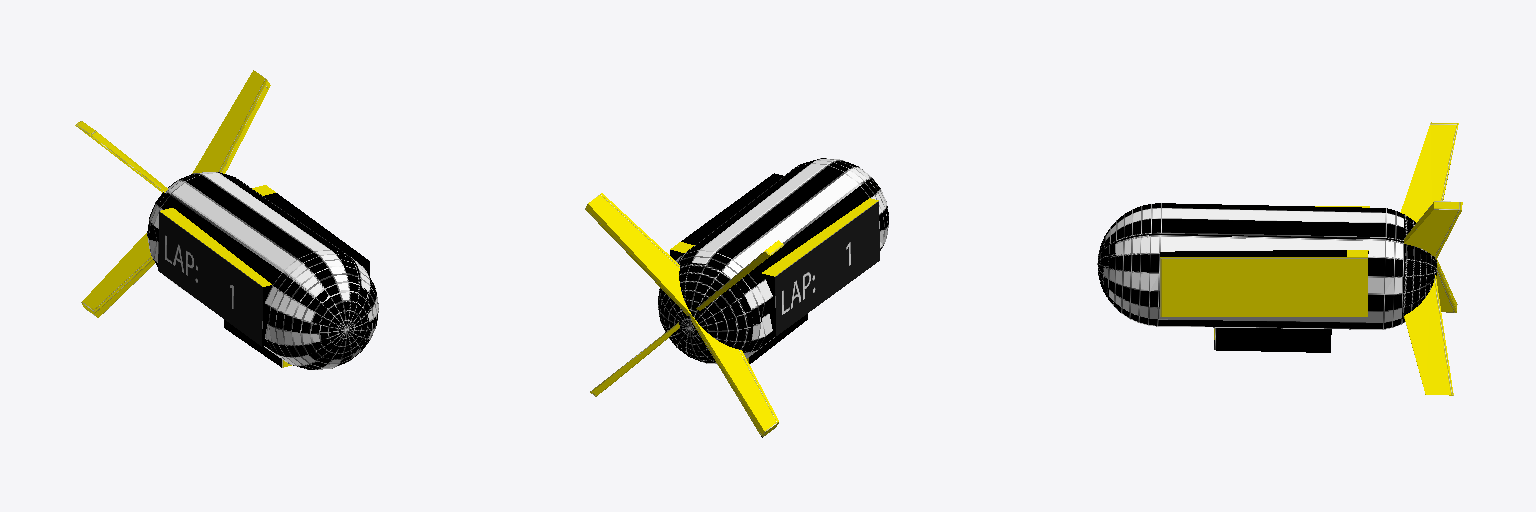
The picture shows the model from 3 angles: view 1: azimuth 30°, elevation 25°; view 2: azimuth 150°, elevation 25°; view 3: azimuth 270°, elevation 25°; orthographic projection.
Parts seen in each view (by area): view 1: pCube8; view 2: pCube8; view 3: pCube8.
Boxes of the visible parts, box(x1,y1,x2,y2) form: pCube8: box(75, 70, 378, 369); pCube8: box(585, 158, 888, 437); pCube8: box(1097, 122, 1462, 395).
Size of the model in its own units: 3.08 by 3.13 by 5.29.
1 materials, 1 textured.